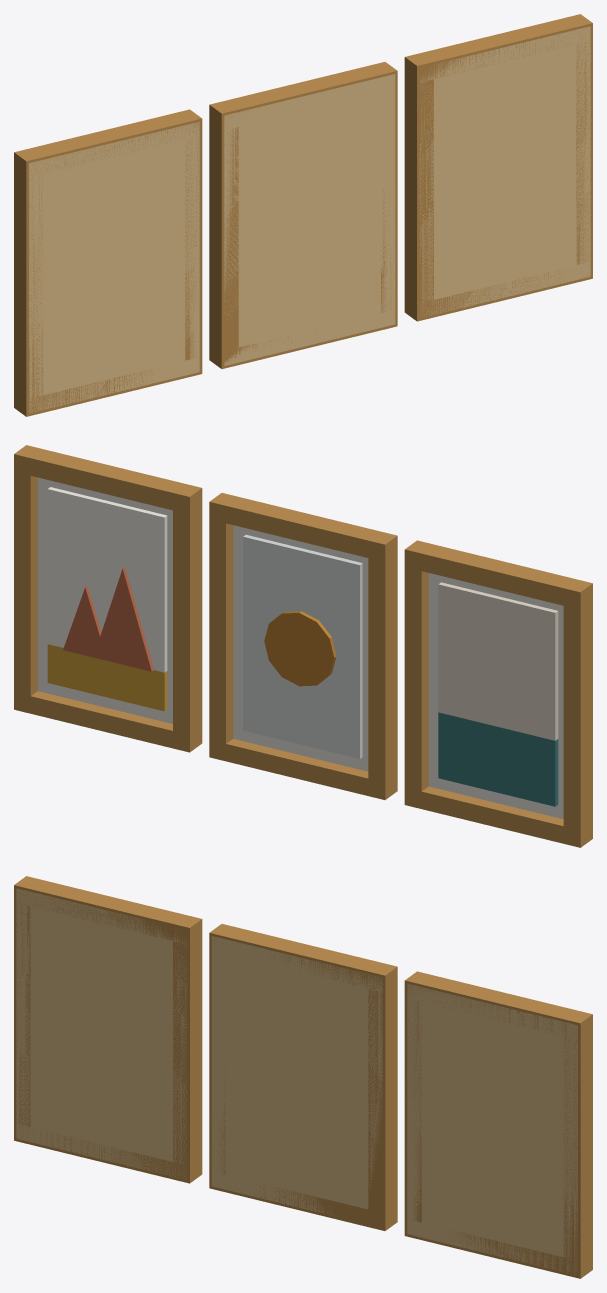
File: SM_LPI_Decor_PictureSet_01.fbx
3 views of the same model, one above another, from view 1: azimuth 30°, elevation 25°; view 2: azimuth 150°, elevation 25°; view 3: azimuth 330°, elevation 25° (orthographic).
Parts seen in each view (by area): view 1: SM_LPI_Decor_PictureSet_01; view 2: SM_LPI_Decor_PictureSet_01; view 3: SM_LPI_Decor_PictureSet_01.
Part boxes in pixels (left/top/right/bottom): SM_LPI_Decor_PictureSet_01: left=14, top=14, right=592, bottom=416; SM_LPI_Decor_PictureSet_01: left=14, top=445, right=592, bottom=847; SM_LPI_Decor_PictureSet_01: left=14, top=876, right=592, bottom=1278.
Size of the model in its own units: 1.16 by 0.5 by 0.044.
